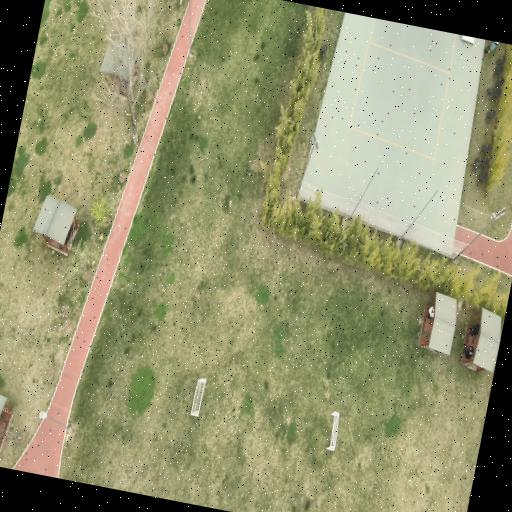person: (464, 345, 474, 360), (470, 324, 480, 336), (428, 306, 434, 318)
